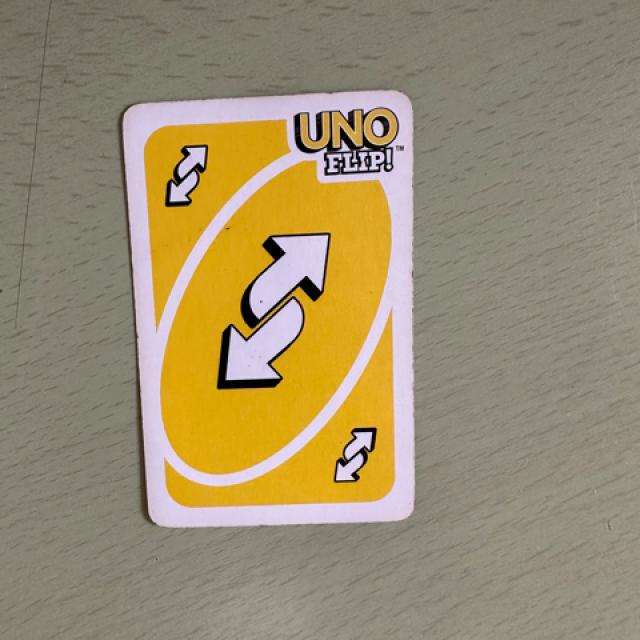lyellowrevers-20: (140, 120, 232, 227)
